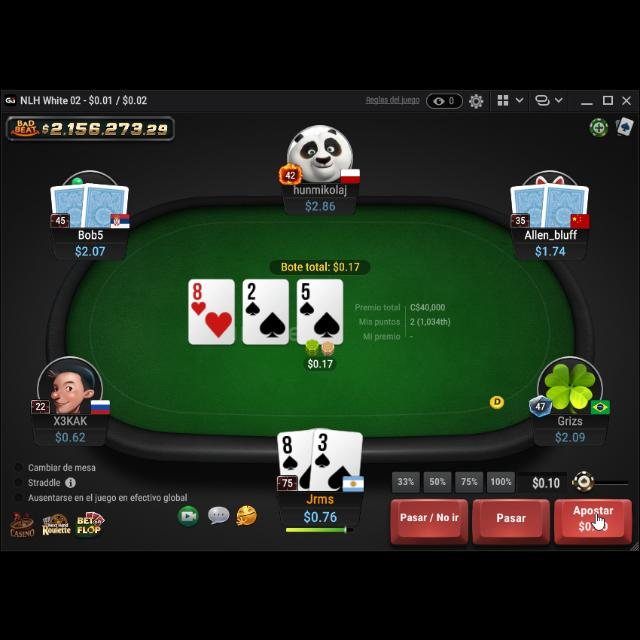2s: (244, 281, 262, 317)
3s: (313, 430, 332, 470)
5s: (300, 281, 314, 315)
8h: (190, 281, 208, 317)
8s: (282, 433, 300, 473)
bet_text: (306, 354, 336, 368)
card_back: (538, 178, 592, 232), (80, 179, 130, 229), (48, 179, 94, 229), (508, 180, 554, 228)
dealer: (487, 391, 507, 409)
hero_active: (388, 494, 634, 544)
pot_text: (280, 260, 362, 270)
stack_text: (303, 506, 339, 524), (553, 426, 587, 442), (302, 197, 338, 211), (55, 428, 87, 442), (75, 243, 107, 257), (534, 242, 566, 256)
